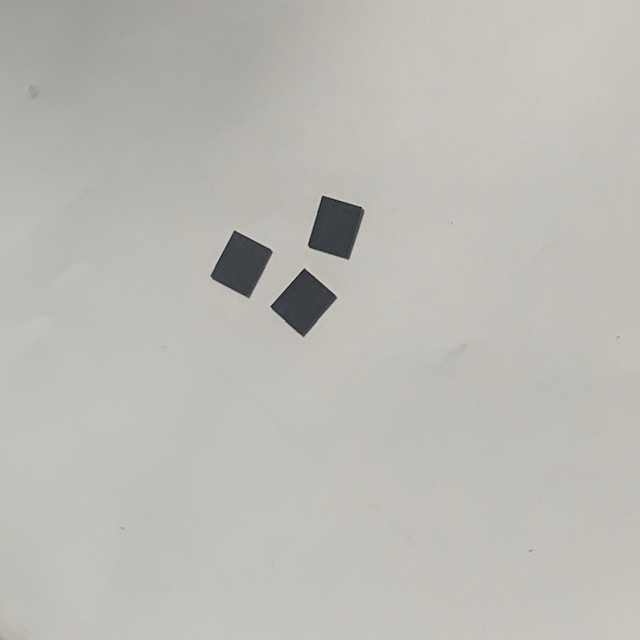IC: (269, 264, 342, 342), (209, 229, 274, 300), (306, 192, 366, 262)
